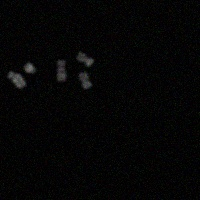chromosome: (7, 70, 26, 89), (75, 50, 94, 67), (78, 72, 93, 89), (57, 59, 67, 82), (25, 62, 37, 73)
